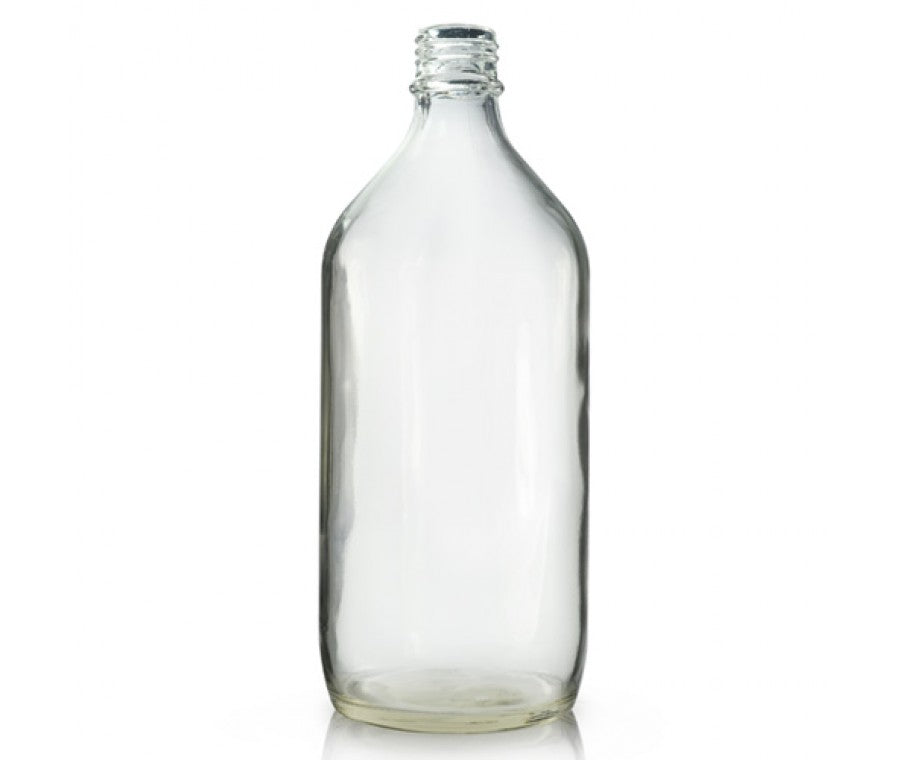glass_bottle: (294, 15, 611, 746)
